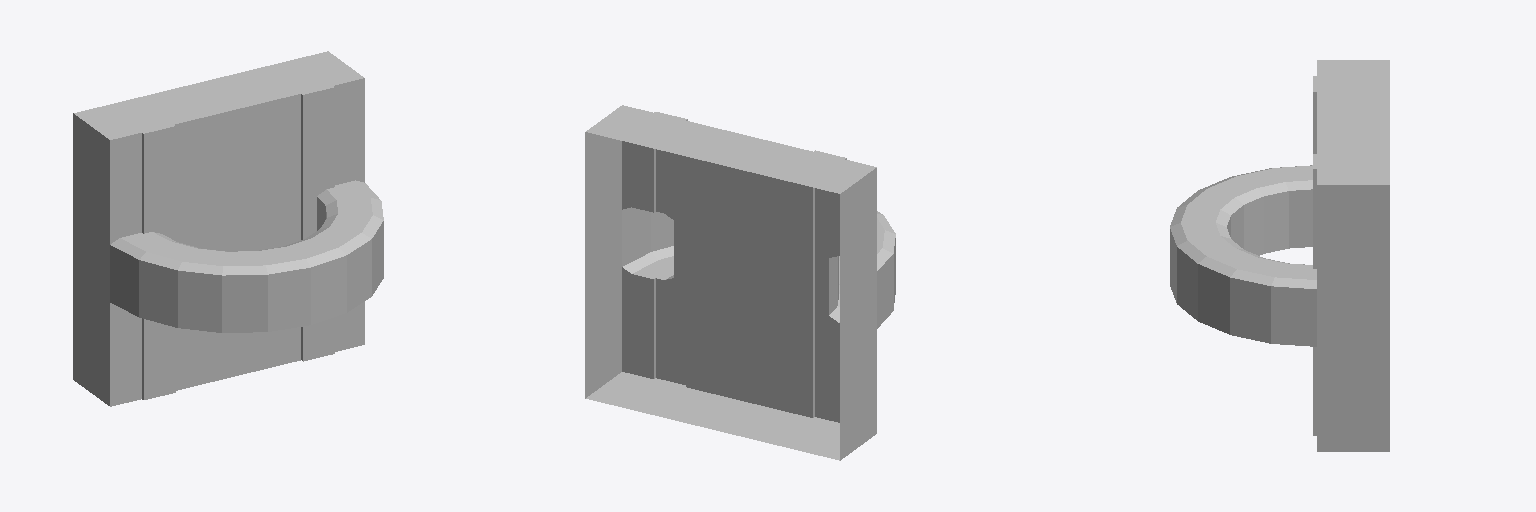
Rendered from track-tire.obj.
3 renders of one model, left to right at view 1: azimuth 30°, elevation 25°; view 2: azimuth 150°, elevation 25°; view 3: azimuth 270°, elevation 25°, orthographic.
Parts seen in each view (by area): view 1: track-tire_Cube.629; view 2: track-tire_Cube.629; view 3: track-tire_Cube.629.
Part boxes in pixels (left/top/right/bottom): track-tire_Cube.629: left=73, top=51, right=383, bottom=406; track-tire_Cube.629: left=585, top=105, right=895, bottom=460; track-tire_Cube.629: left=1170, top=60, right=1389, bottom=451.
Bounding box in the file's own units: 8 × 8 × 6.